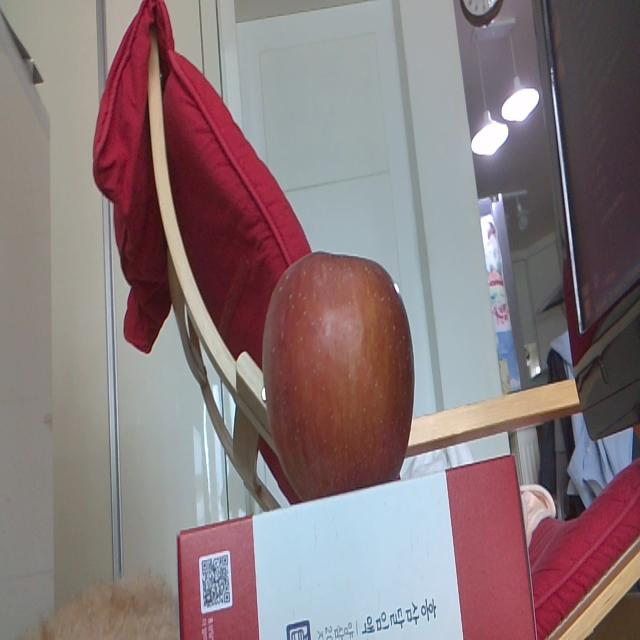apple: (264, 252, 414, 479)
